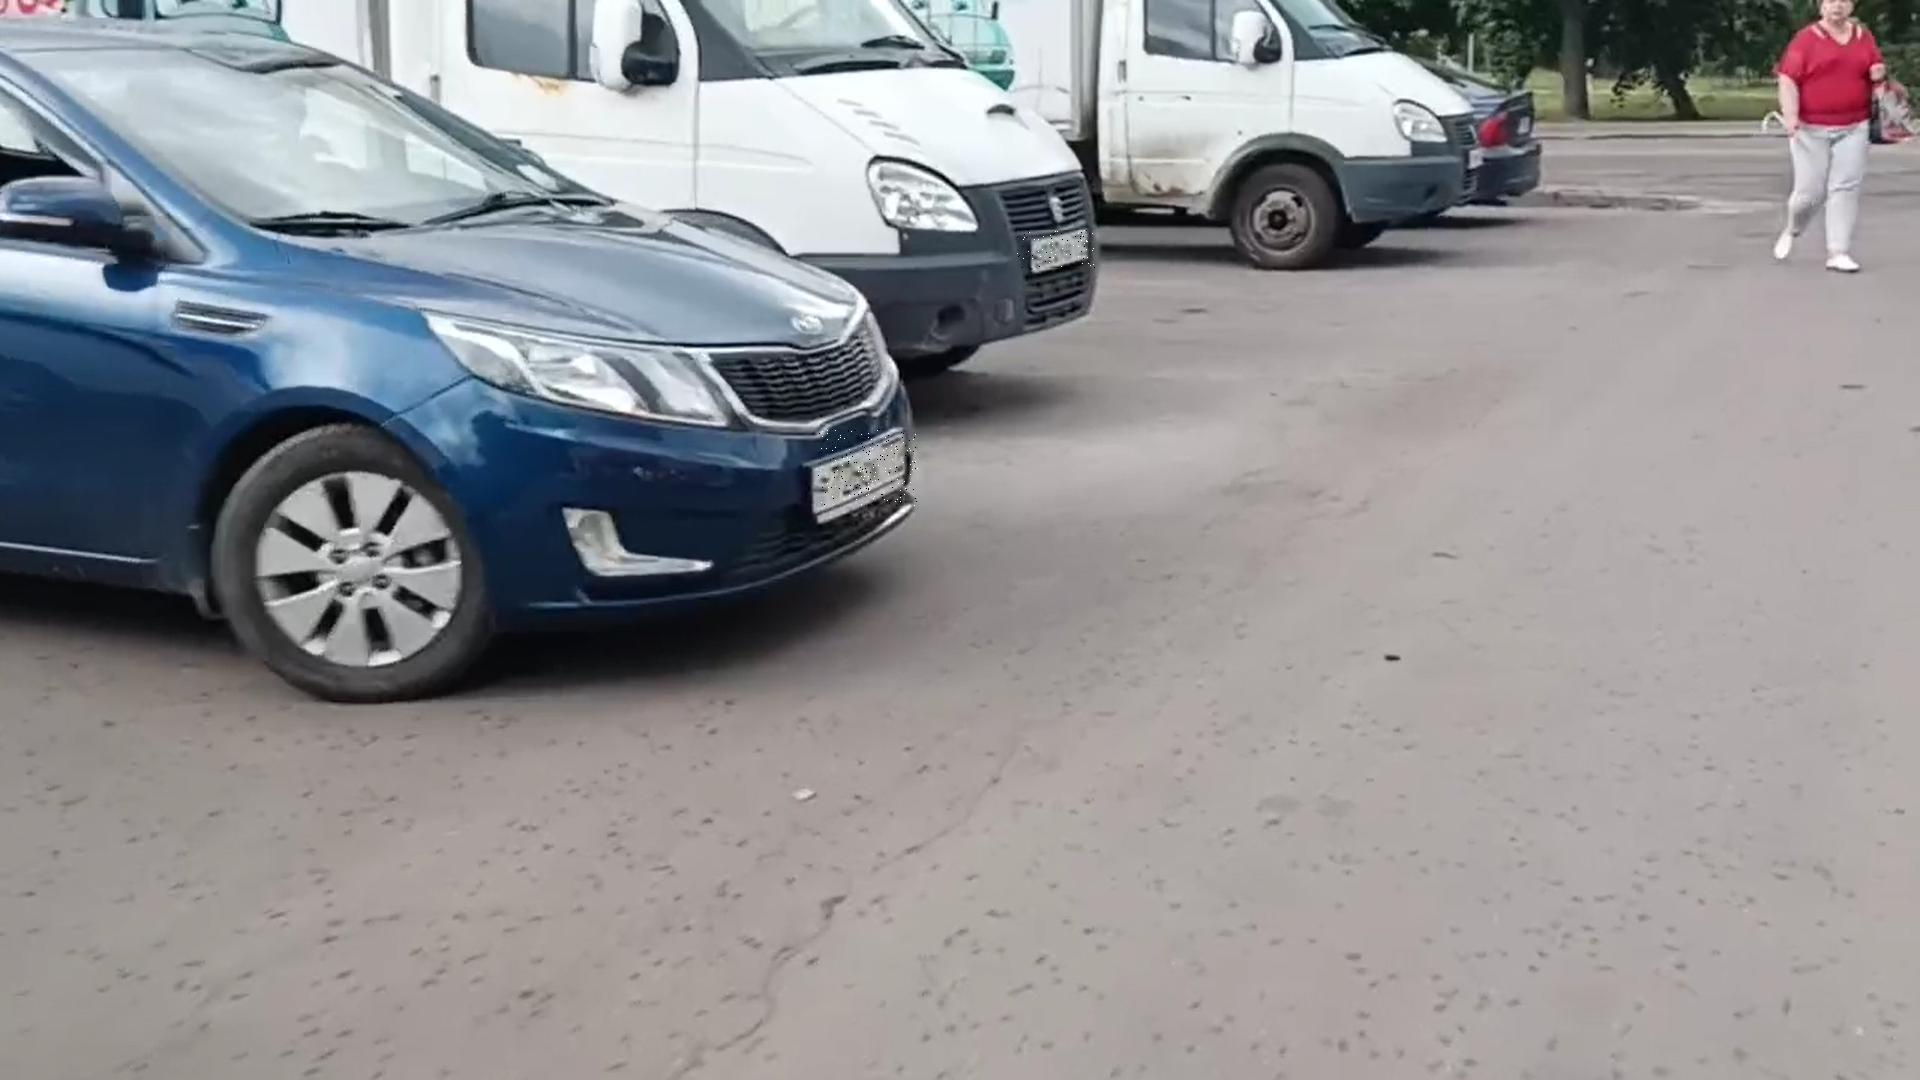plate: (819, 430, 919, 507), (1019, 232, 1097, 270)
